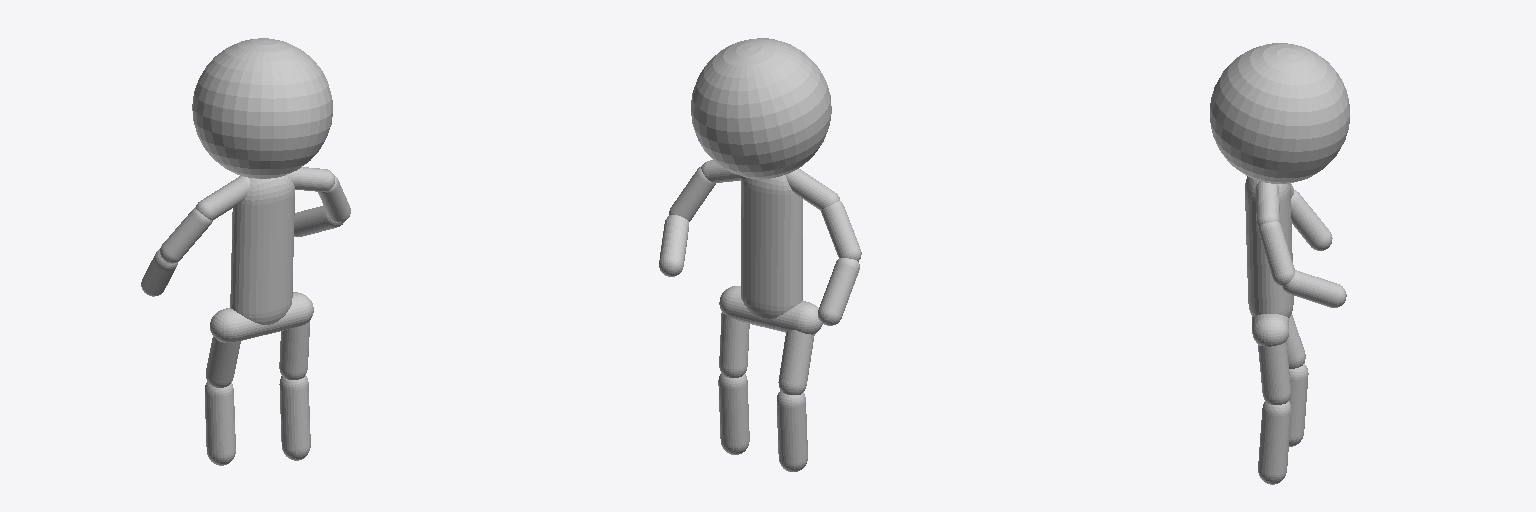
The model's file is Stickman_000034.obj.
3 renders of one model, left to right at view 1: azimuth 30°, elevation 25°; view 2: azimuth 150°, elevation 25°; view 3: azimuth 270°, elevation 25°, orthographic.
Visible parts, largest first — view 1: Head_Sphere.001, Body_Roundcube.002, LowerLegLeft_Roundcube.013, Hip_Roundcube.005, LowerLegRight_Roundcube.011, UpperLegLeft_Roundcube.012, UpperArmRight_Roundcube.015, UpperLegRight_Roundcube.010, ShoulderRight_Roundcube.014, LowerArmLeft_Roundcube.019, LowerArmRight_Roundcube.016, ShoulderLeft_Roundcube.017 (+1 smaller); view 2: Head_Sphere.001, Body_Roundcube.002, LowerLegLeft_Roundcube.013, LowerLegRight_Roundcube.011, Hip_Roundcube.005, UpperLegRight_Roundcube.010, LowerArmRight_Roundcube.016, UpperLegLeft_Roundcube.012, LowerArmLeft_Roundcube.019, UpperArmRight_Roundcube.015, UpperArmLeft_Roundcube.018, ShoulderRight_Roundcube.014 (+1 smaller); view 3: Head_Sphere.001, Body_Roundcube.002, LowerLegLeft_Roundcube.013, UpperLegLeft_Roundcube.012, UpperArmLeft_Roundcube.018, LowerArmLeft_Roundcube.019, LowerArmRight_Roundcube.016, LowerLegRight_Roundcube.011, Hip_Roundcube.005, ShoulderLeft_Roundcube.017, UpperLegRight_Roundcube.010.
Boxes of the visible parts, x1,y1,x2,y2 form: Head_Sphere.001: [192, 38, 332, 178]; Body_Roundcube.002: [230, 174, 294, 324]; LowerLegLeft_Roundcube.013: [279, 375, 310, 460]; Hip_Roundcube.005: [210, 292, 313, 342]; LowerLegRight_Roundcube.011: [205, 382, 235, 465]; UpperLegLeft_Roundcube.012: [279, 321, 309, 379]; UpperArmRight_Roundcube.015: [160, 207, 212, 263]; UpperLegRight_Roundcube.010: [206, 337, 240, 387]; ShoulderRight_Roundcube.014: [196, 176, 249, 220]; LowerArmLeft_Roundcube.019: [294, 205, 343, 236]; LowerArmRight_Roundcube.016: [141, 249, 177, 296]; ShoulderLeft_Roundcube.017: [288, 167, 334, 191]; Head_Sphere.001: [691, 38, 831, 178]; Body_Roundcube.002: [741, 175, 802, 319]; LowerLegLeft_Roundcube.013: [718, 373, 749, 454]; LowerLegRight_Roundcube.011: [777, 391, 807, 471]; Hip_Roundcube.005: [719, 286, 822, 334]; UpperLegRight_Roundcube.010: [778, 330, 814, 394]; LowerArmRight_Roundcube.016: [818, 258, 859, 325]; UpperLegLeft_Roundcube.012: [719, 312, 749, 377]; LowerArmLeft_Roundcube.019: [659, 215, 688, 276]; UpperArmRight_Roundcube.015: [821, 201, 861, 261]; UpperArmLeft_Roundcube.018: [669, 166, 715, 221]; ShoulderRight_Roundcube.014: [786, 169, 839, 210]; Head_Sphere.001: [1210, 43, 1349, 183]; Body_Roundcube.002: [1245, 176, 1293, 317]; LowerLegLeft_Roundcube.013: [1258, 401, 1290, 484]; UpperLegLeft_Roundcube.012: [1258, 341, 1290, 404]; UpperArmLeft_Roundcube.018: [1258, 221, 1294, 286]; LowerArmLeft_Roundcube.019: [1282, 270, 1346, 307]; LowerArmRight_Roundcube.016: [1291, 190, 1332, 250]; LowerLegRight_Roundcube.011: [1289, 363, 1308, 446]; Hip_Roundcube.005: [1252, 314, 1288, 346]; ShoulderLeft_Roundcube.017: [1256, 181, 1279, 227]; UpperLegRight_Roundcube.010: [1287, 314, 1305, 368].
Bounding box in the file's own units: 5.33 × 11.21 × 3.42.